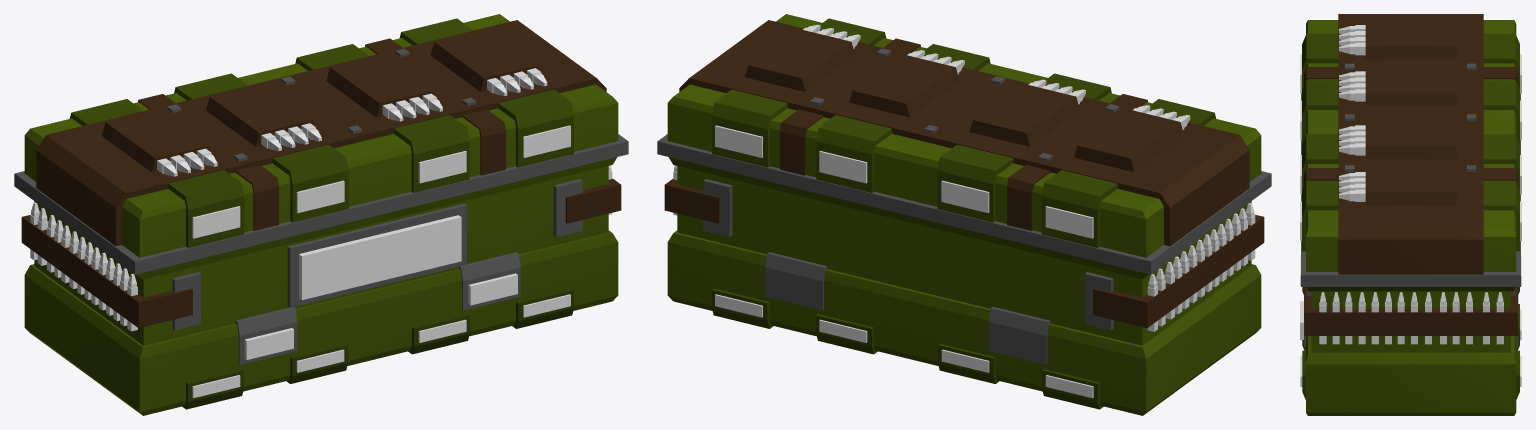
Rendered from Big_Box.fbx.
The picture shows the model from 3 angles, left to right: view 1: azimuth 30°, elevation 25°; view 2: azimuth 150°, elevation 25°; view 3: azimuth 270°, elevation 25°; orthographic projection. The views are drawn at different scales.
Visible parts, largest first — view 1: Big_Box, Neon, LED, Bullet.001; view 2: Big_Box, Neon, Bullet.001; view 3: Big_Box, Bullet.001, Neon.
Boxes of the visible parts, left/top/right/bottom form: Big_Box: left=14, top=14, right=628, bottom=415; Neon: left=192, top=125, right=570, bottom=398; LED: left=299, top=215, right=461, bottom=300; Bullet.001: left=30, top=68, right=612, bottom=331; Big_Box: left=657, top=14, right=1271, bottom=415; Neon: left=715, top=125, right=1093, bottom=398; Bullet.001: left=673, top=24, right=1255, bottom=331; Big_Box: left=1301, top=14, right=1520, bottom=415; Bullet.001: left=1319, top=25, right=1503, bottom=344; Neon: left=1300, top=54, right=1521, bottom=386.
Bounding box in the file's own units: 61.87 × 27.16 × 26.4.
